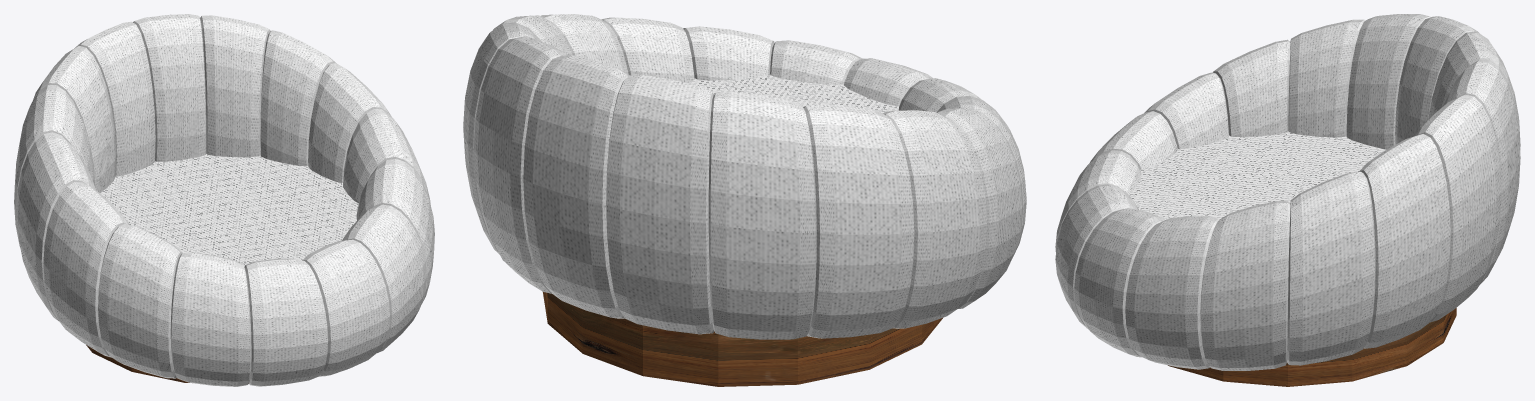
Rendered from pumpkin-chair.glb.
3 renders of one model, left to right at view 1: azimuth 30°, elevation 25°; view 2: azimuth 150°, elevation 25°; view 3: azimuth 270°, elevation 25°, orthographic. The views are drawn at different scales.
Visible parts, largest first — view 1: Torus, Cylinder.001; view 2: Torus, Cylinder, Cylinder.001; view 3: Torus, Cylinder.001, Cylinder.
Boxes of the visible parts, left/top/right/bottom form: Torus: left=14, top=14, right=434, bottom=386; Cylinder.001: left=100, top=153, right=358, bottom=266; Torus: left=463, top=14, right=1026, bottom=339; Cylinder: left=543, top=292, right=942, bottom=386; Cylinder.001: left=688, top=74, right=899, bottom=113; Torus: left=1055, top=14, right=1520, bottom=370; Cylinder.001: left=1128, top=131, right=1385, bottom=220; Cylinder: left=1168, top=308, right=1456, bottom=386.
Bounding box in the file's own units: 1.74 × 1.07 × 1.74.
3 materials, 3 textured.
